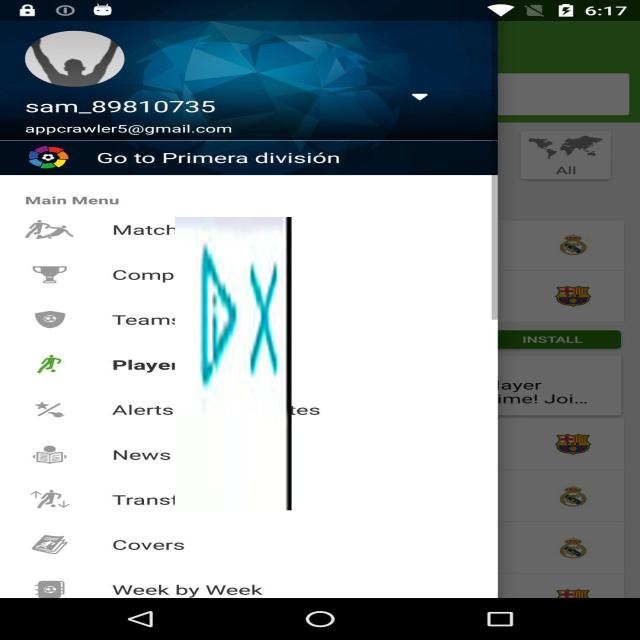sneaking: (175, 217, 291, 510)
